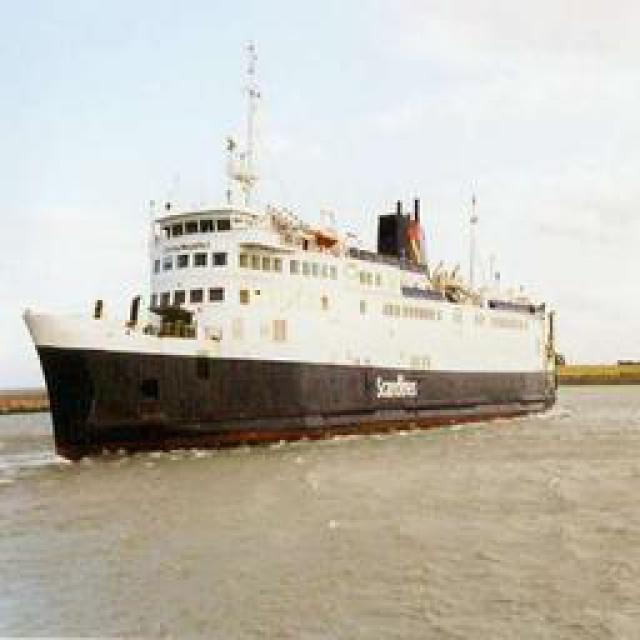Ship: (32, 98, 555, 453)
